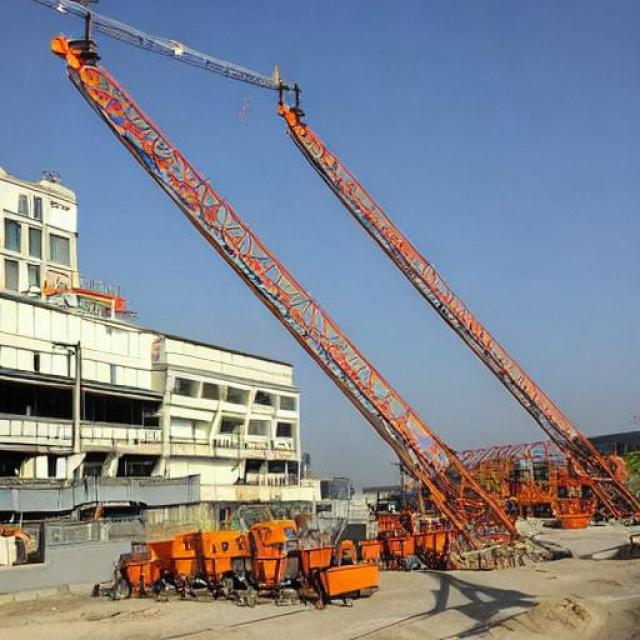crane: (124, 260, 208, 308), (9, 272, 71, 312)
